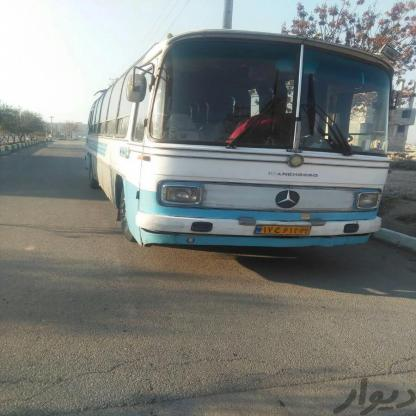Bus: (78, 22, 402, 263)
